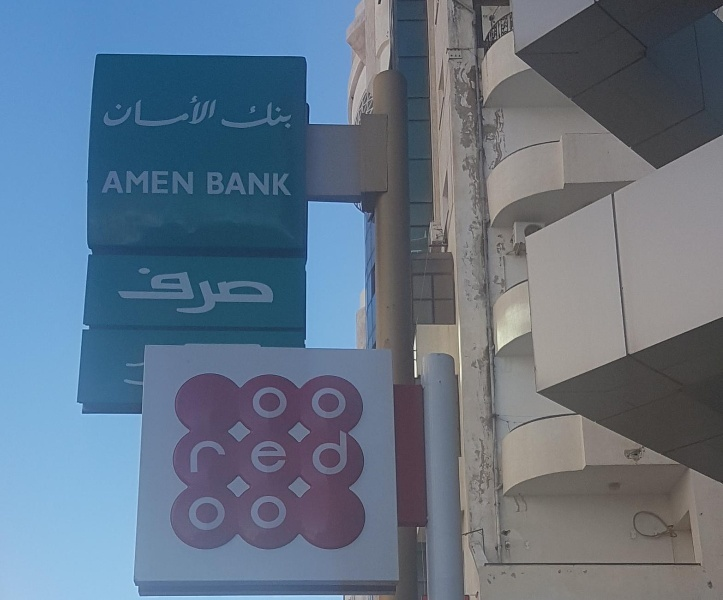text: (129, 266, 144, 317), (145, 266, 160, 317), (161, 266, 176, 317), (177, 266, 192, 317), (193, 266, 208, 317), (209, 266, 224, 317), (225, 266, 240, 317), (241, 266, 256, 317), (257, 266, 272, 317), (193, 429, 208, 475), (209, 429, 224, 475), (225, 429, 240, 475), (241, 429, 256, 475), (257, 429, 272, 475), (273, 429, 288, 475), (289, 429, 304, 475), (305, 429, 320, 475), (321, 429, 336, 475), (116, 266, 128, 317), (273, 495, 289, 533), (337, 429, 350, 475), (193, 495, 208, 533), (209, 495, 224, 533), (225, 495, 240, 533), (241, 495, 256, 533), (257, 495, 272, 533), (113, 95, 128, 131), (129, 95, 144, 131), (145, 95, 160, 131), (161, 95, 176, 131), (177, 95, 192, 131), (193, 95, 208, 131), (257, 385, 272, 420), (273, 385, 288, 420), (289, 385, 304, 420), (305, 385, 320, 420), (321, 385, 336, 420), (225, 100, 240, 133), (241, 100, 256, 133), (257, 100, 272, 133), (273, 100, 288, 133), (337, 385, 350, 420), (209, 95, 221, 131), (113, 169, 128, 196), (129, 169, 144, 196), (145, 169, 160, 196), (161, 169, 176, 196), (177, 169, 192, 196), (209, 171, 224, 198), (225, 171, 240, 198), (241, 171, 256, 198), (257, 171, 272, 198), (273, 171, 288, 198), (102, 169, 112, 196), (250, 385, 256, 420), (273, 266, 277, 317), (289, 100, 295, 133), (187, 495, 192, 533), (109, 95, 112, 131), (289, 171, 293, 198), (221, 100, 224, 133), (193, 169, 196, 196), (205, 171, 208, 198)
